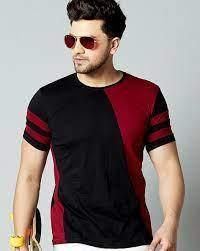Tshirt: (8, 71, 184, 251)
